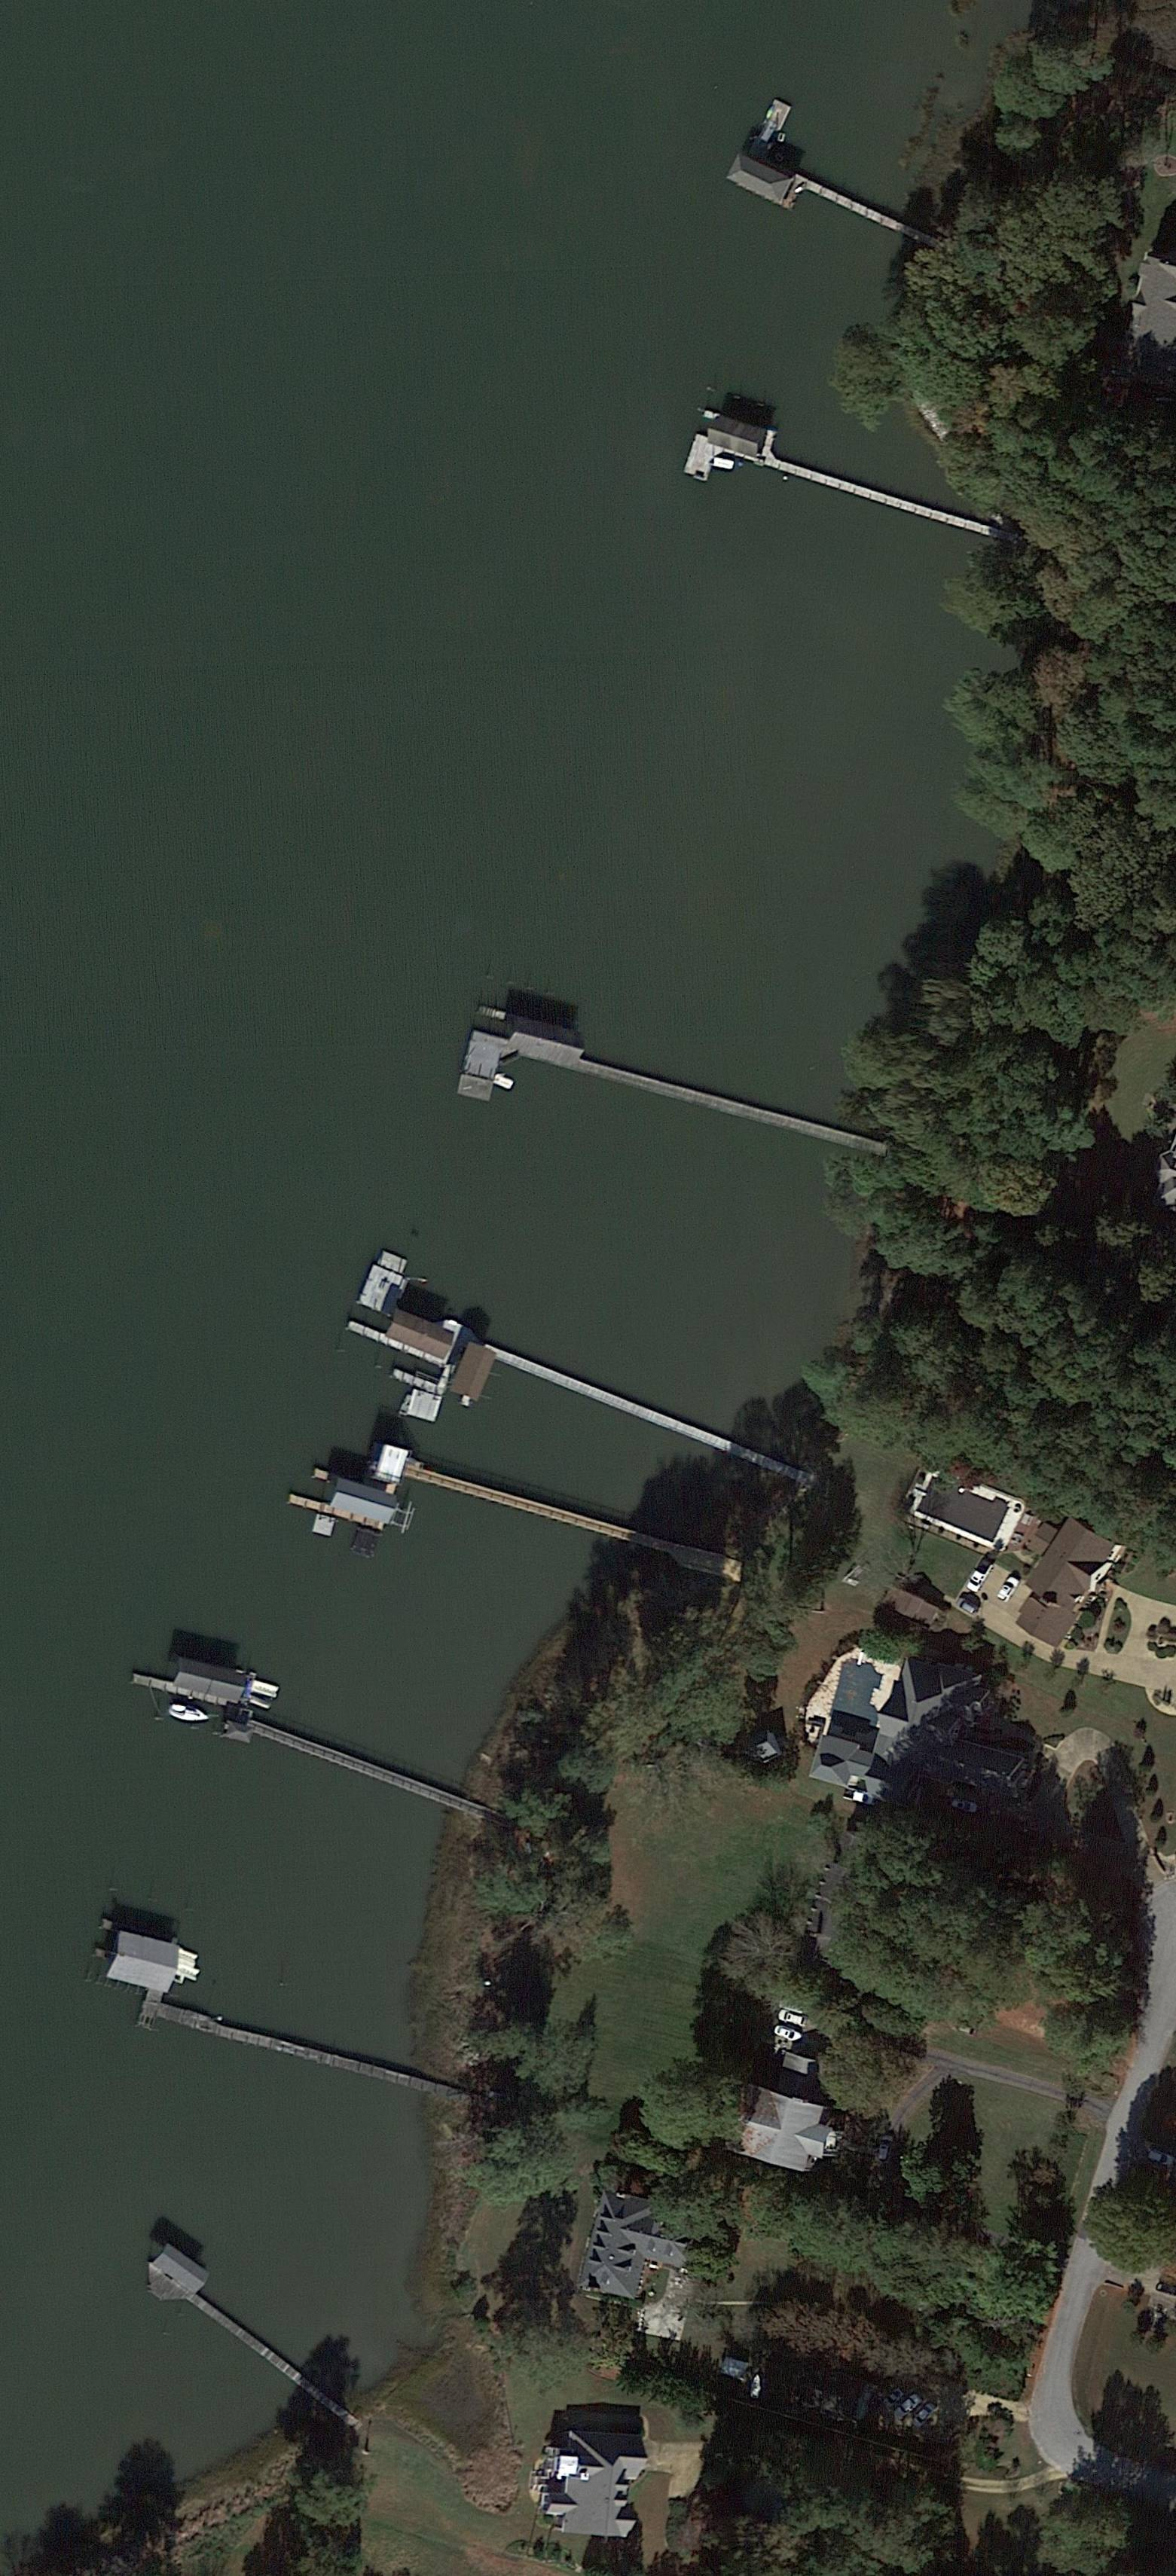harbor: (319, 1247, 737, 1520), (455, 1002, 836, 1186), (123, 1641, 457, 1820), (366, 1439, 729, 1587), (90, 1929, 412, 2090), (135, 2243, 353, 2431), (680, 409, 954, 547), (724, 95, 935, 255)
ship: (163, 1700, 214, 1728)
small vehicle: (964, 1556, 997, 1594), (910, 2397, 941, 2431), (890, 2390, 923, 2422), (994, 1572, 1023, 1605), (774, 2004, 811, 2029), (879, 2385, 905, 2413), (874, 2134, 895, 2164), (841, 1787, 875, 1806), (954, 1597, 981, 1620), (772, 2024, 803, 2042), (949, 1796, 979, 1814)
